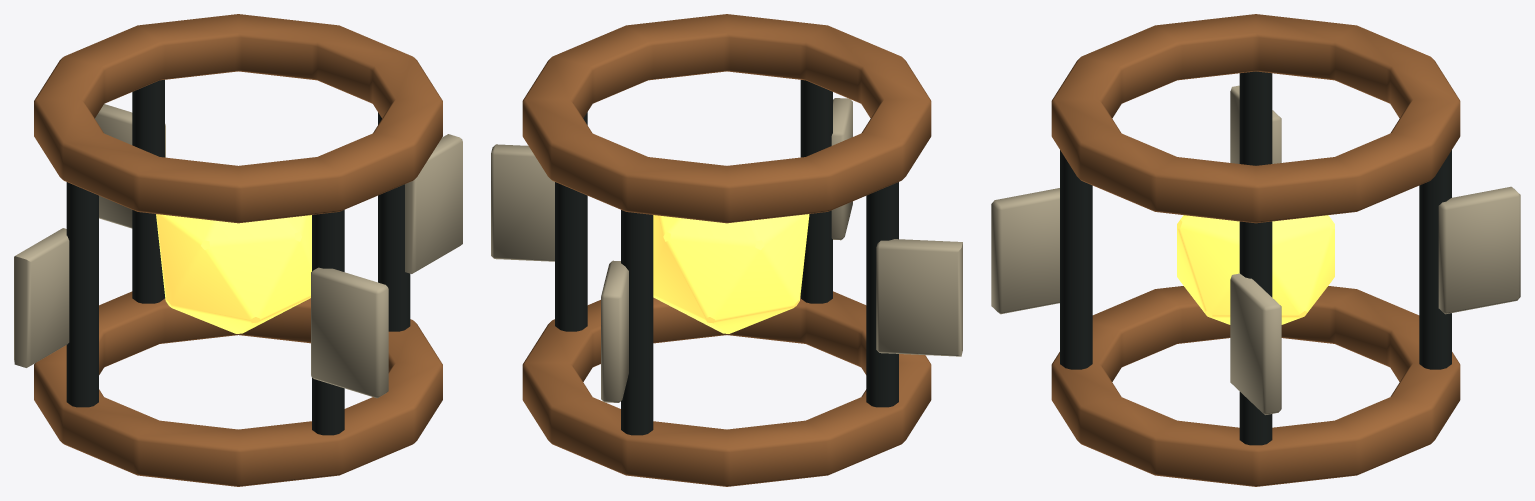
Rendered from relic_snare_beacon.glb.
3 renders of one model, left to right at view 1: azimuth 30°, elevation 25°; view 2: azimuth 150°, elevation 25°; view 3: azimuth 270°, elevation 25°, orthographic.
Parts seen in each view (by area): view 1: relic_snare_beacon_mesh; view 2: relic_snare_beacon_mesh; view 3: relic_snare_beacon_mesh.
Boxes of the visible parts, <box> form: relic_snare_beacon_mesh: <box>14,14,462,486</box>; relic_snare_beacon_mesh: <box>491,14,962,486</box>; relic_snare_beacon_mesh: <box>991,14,1520,486</box>.
Size of the model in its own units: 1.24 by 0.78 by 1.24.
